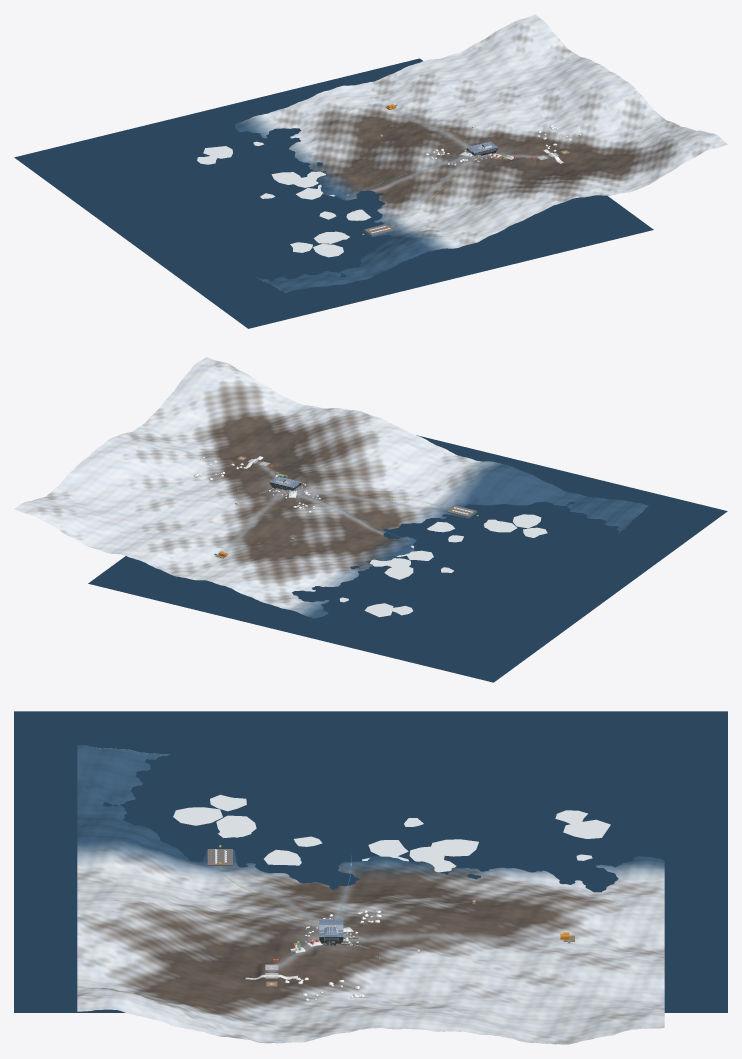
The model's file is bharati_digital_twin_compressed.glb.
3 views of the same model, one above another, from view 1: azimuth 30°, elevation 25°; view 2: azimuth 150°, elevation 25°; view 3: azimuth 270°, elevation 25° (orthographic). The views are drawn at different scales.
Visible parts, largest first — view 1: Bharati_Master_Topography, Quilty_Bay_Water, Quilty_Bay_SeaIce; view 2: Bharati_Master_Topography, Quilty_Bay_Water, Quilty_Bay_SeaIce; view 3: Quilty_Bay_Water, Bharati_Master_Topography, Quilty_Bay_SeaIce.
Part boxes in pixels (x1,y1,x2,y2): Bharati_Master_Topography: (235,14,727,292); Quilty_Bay_Water: (14,58,653,328); Quilty_Bay_SeaIce: (197,141,371,257); Bharati_Master_Topography: (14,357,648,618); Quilty_Bay_Water: (88,435,727,682); Quilty_Bay_SeaIce: (339,514,547,617); Quilty_Bay_Water: (14,711,727,1012); Bharati_Master_Topography: (77,745,664,1044); Quilty_Bay_SeaIce: (173,794,610,872).
Size of the model in its own units: 1110 by 123 by 900.
Materials: 109 (5 with a texture image).
